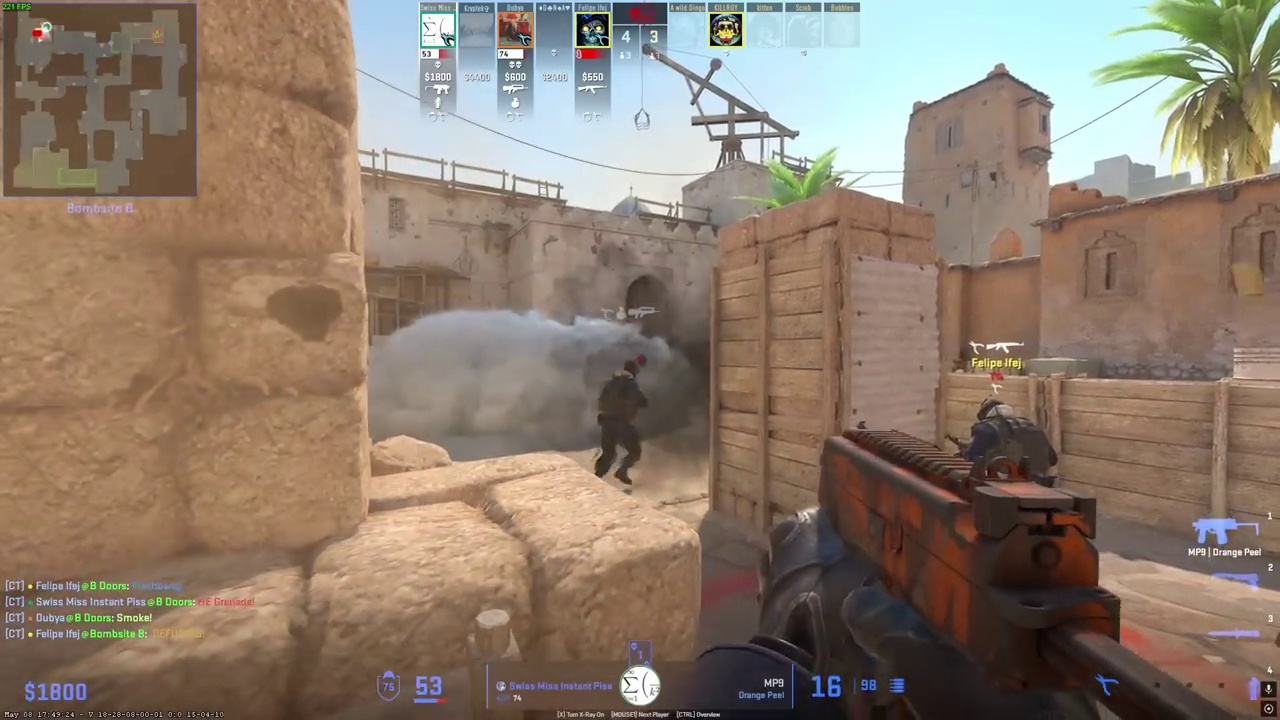CT: (962, 397, 1054, 487), (597, 359, 647, 486)
